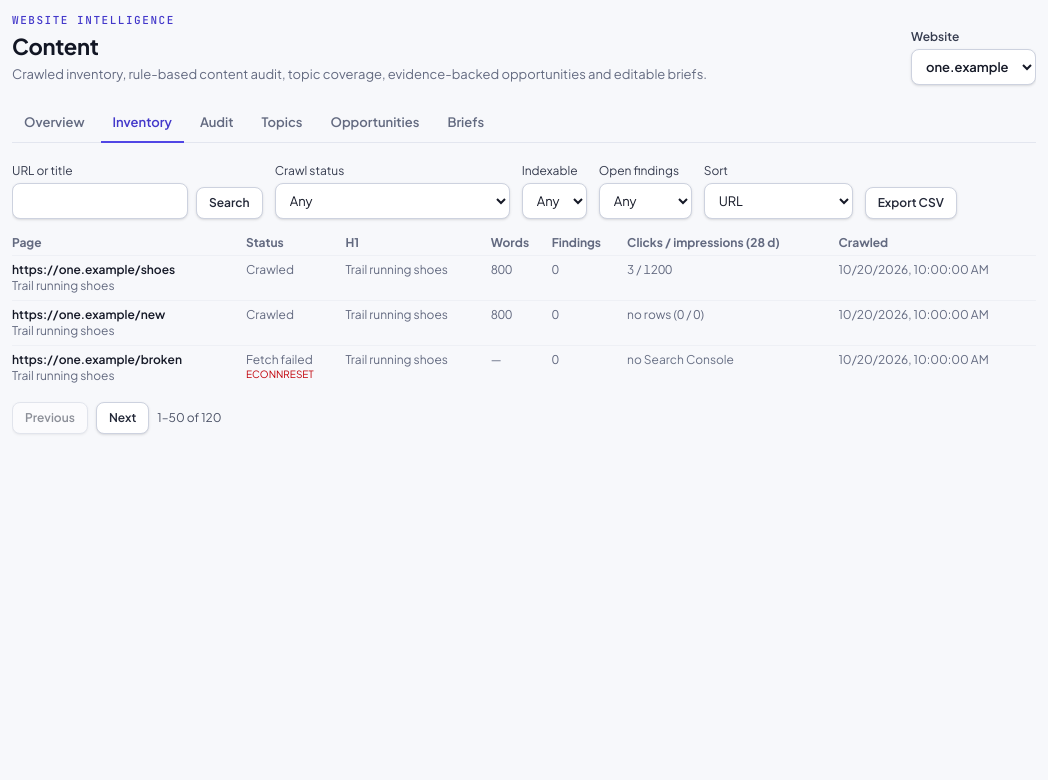
Test: Inventory › filters and paginates on the server; distinguishes no Search Console rows from no Search Console
Check: the text "https://one.example/shoes" shows "3 / 1200", box [627, 262, 672, 277]
Check: the text "https://one.example/new" shows "no rows (0 / 0)", box [627, 307, 704, 322]
Click the button "Next" at coordinates (123, 418), box [96, 402, 149, 434]
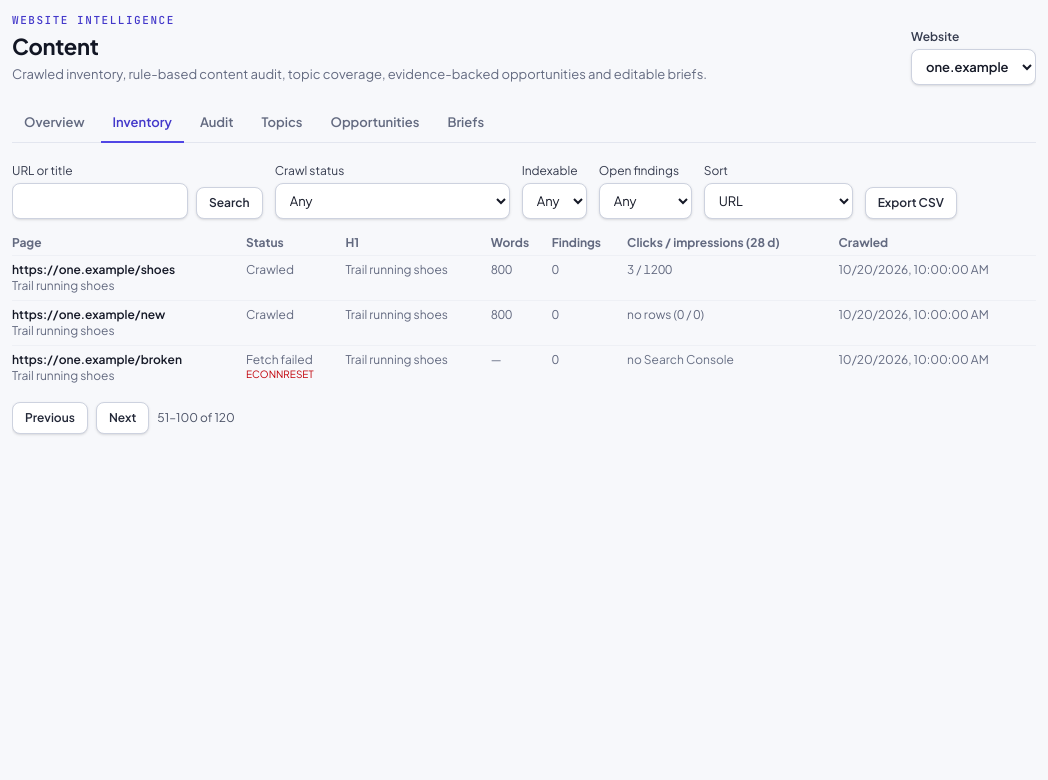
Select "high" in the dropdown labelled "Open findings" at coordinates (645, 201), box [599, 183, 692, 219]
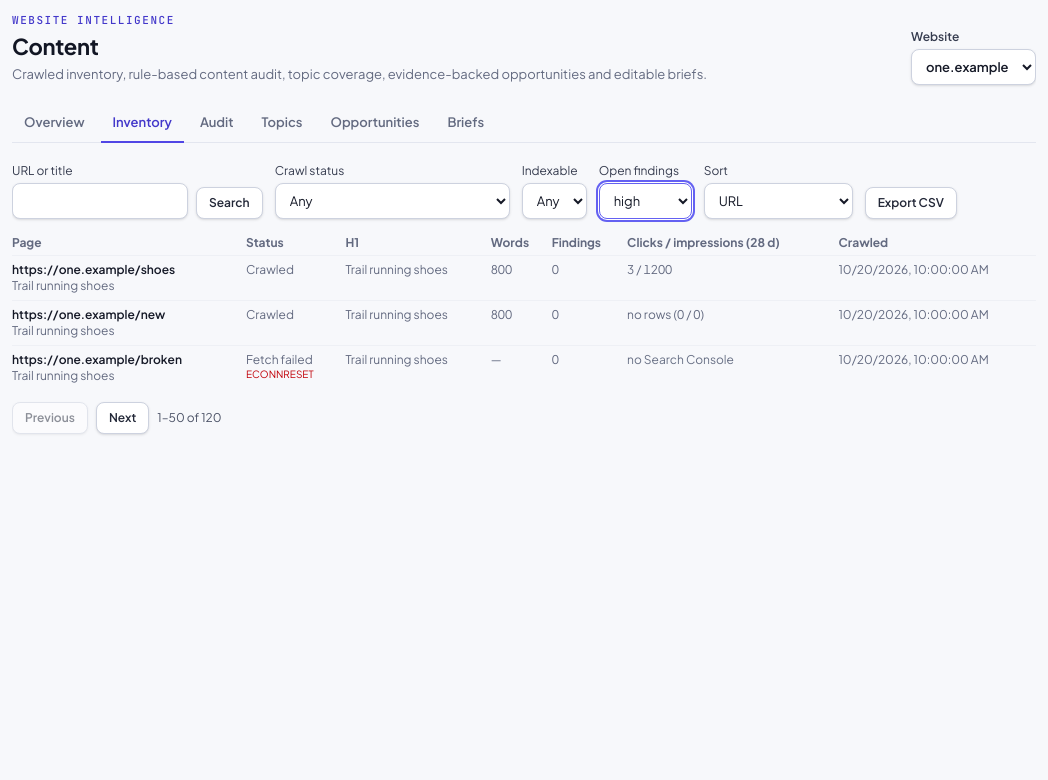
Click the button "https://one.example/shoes" at coordinates (94, 270), box [12, 262, 175, 278]
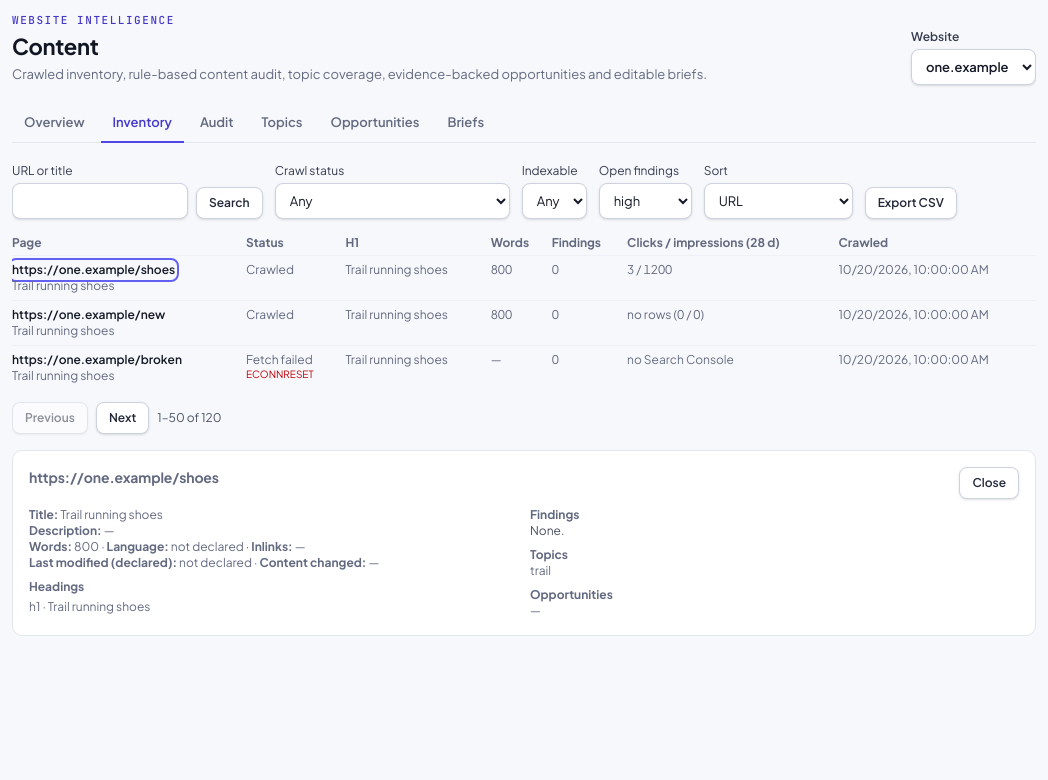
Check: the element named "Page detail" shows "h1 · Trail running shoes", box [12, 450, 1036, 636]
